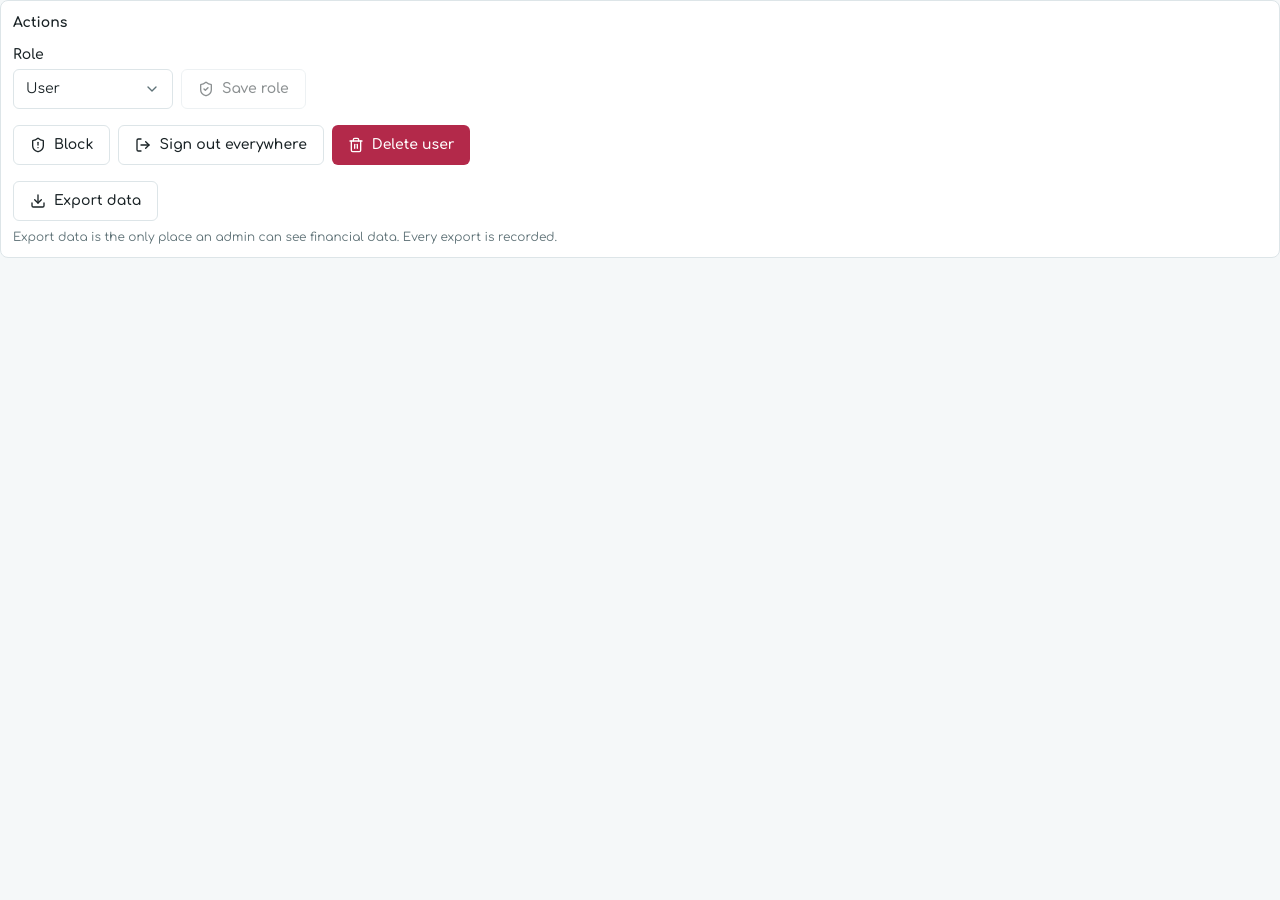
UserActions › shows a wrong confirmation email and stays on the page
Click the button "Delete user". click: coordinates (401, 145)
box: [332,125,470,165]
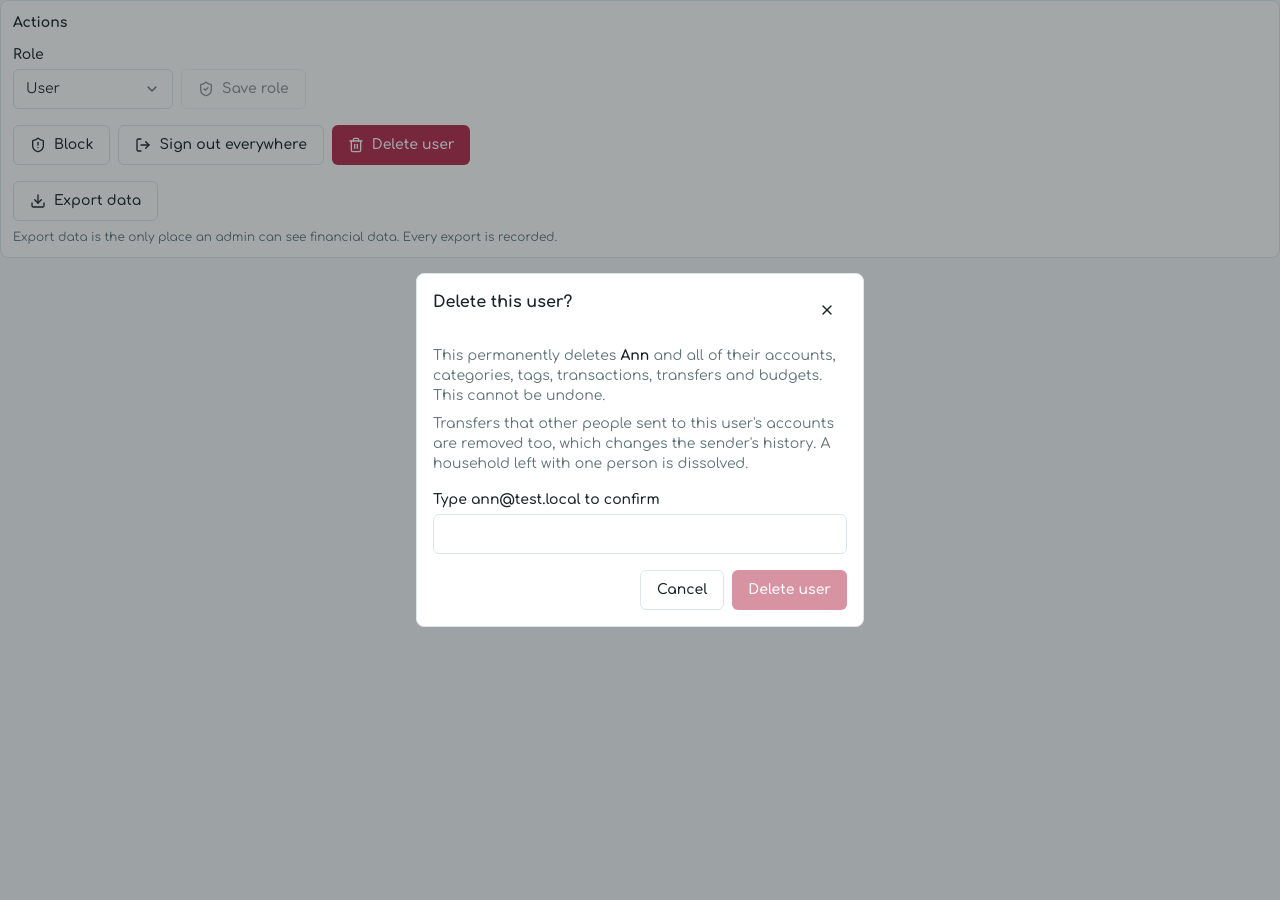
Type "wrong@test.local" into the field labelled "Type ann@test.local to confirm". click: coordinates (640, 534)
box: [433,514,847,554]
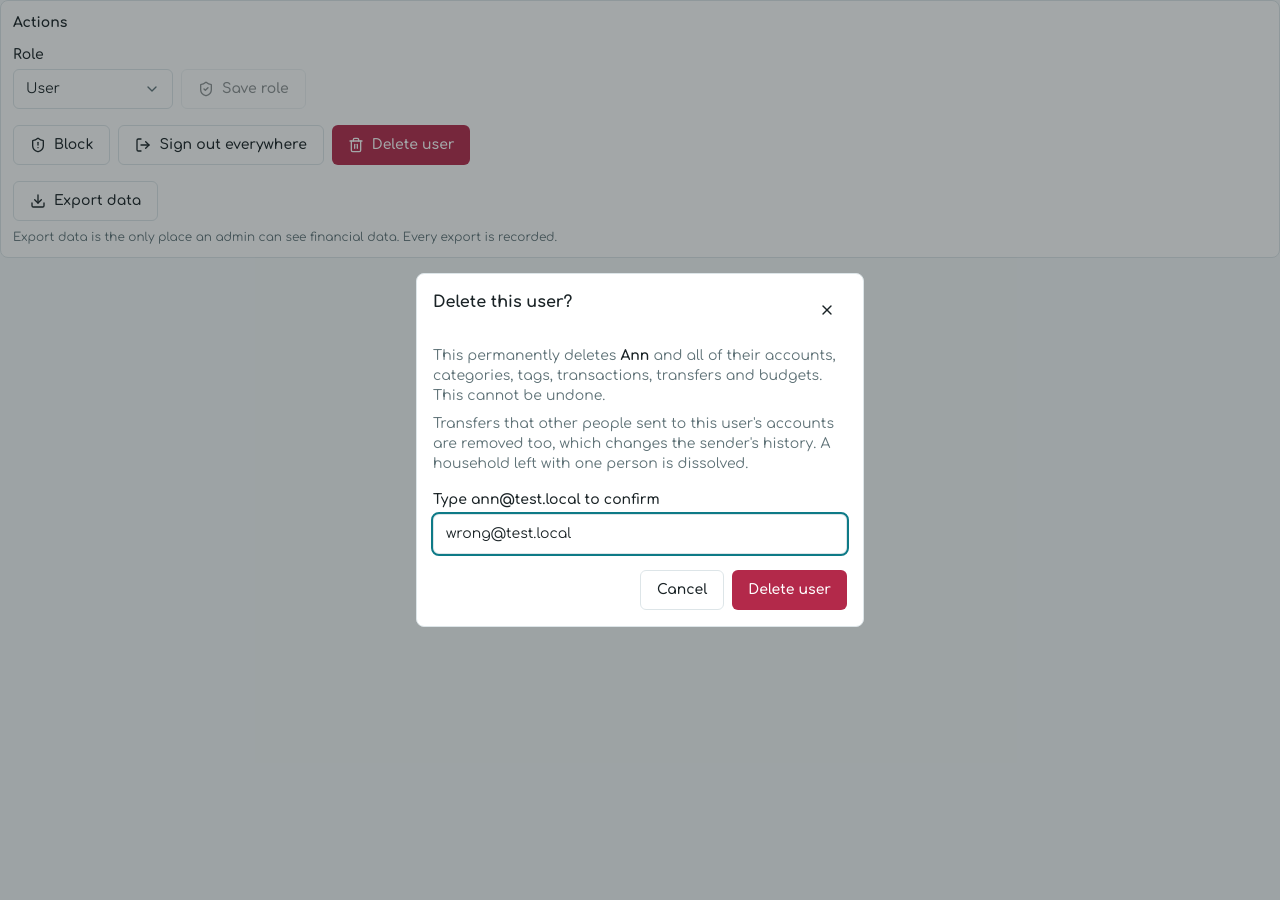
Click the button "Delete user". click: coordinates (790, 590)
box: [732,570,847,610]
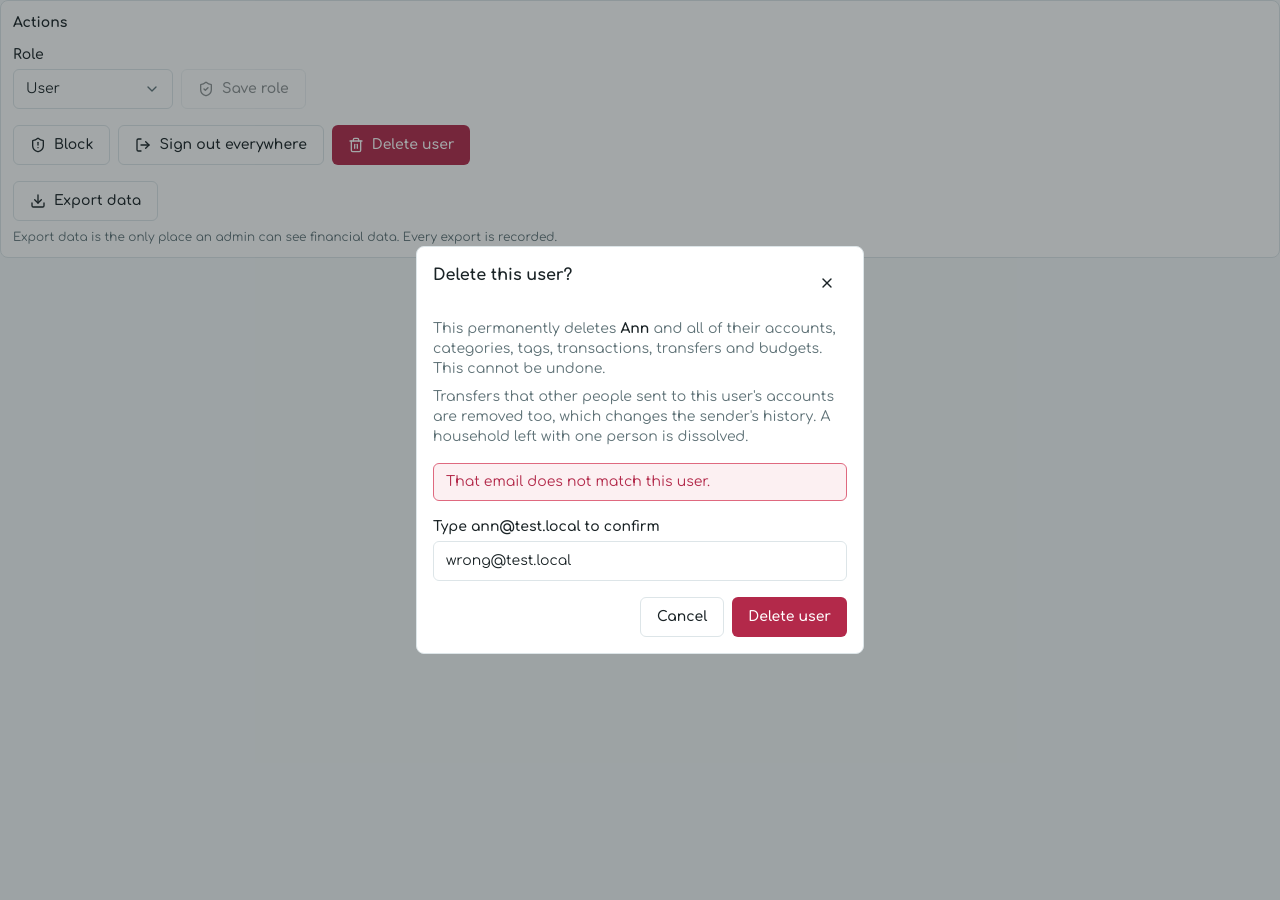
Now the text "That email does not match this user." is shown, box [433,463,847,501]
